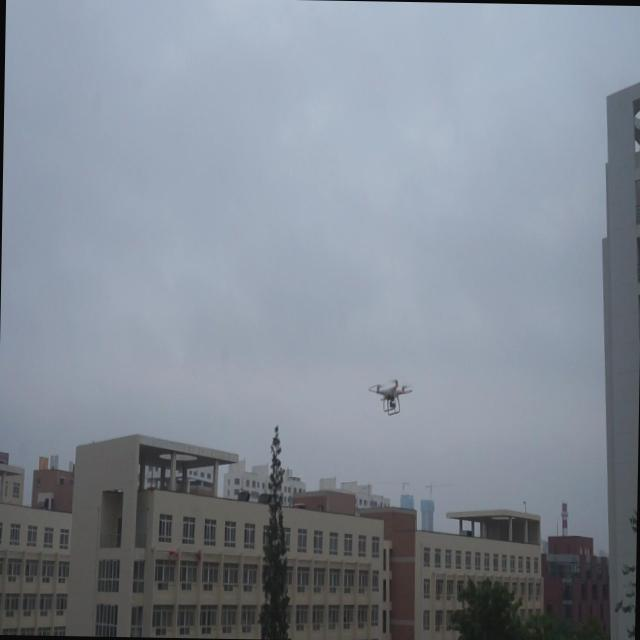drone: (366, 374, 414, 419)
